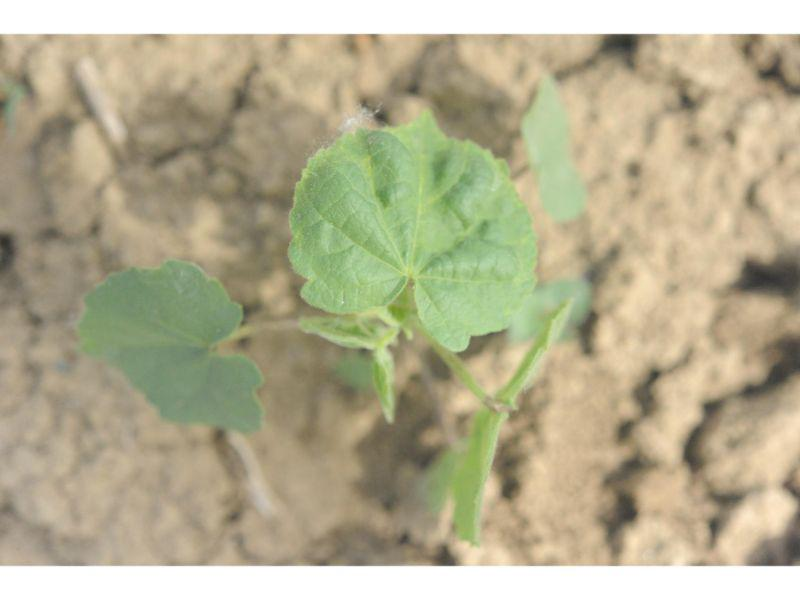velvet: (75, 70, 589, 547)
